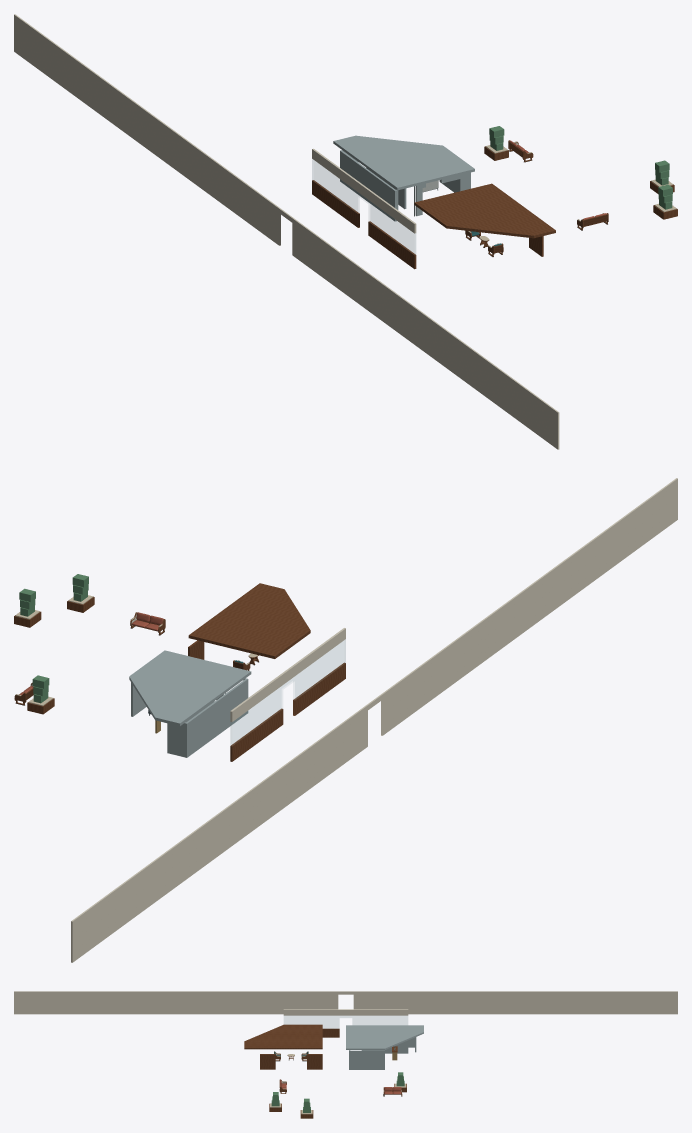
The model's file is D04_PORT_CENTRAL_COMMONS_PATCH_r003.glb.
3 renders of one model, top to bottom at view 1: azimuth 30°, elevation 25°; view 2: azimuth 150°, elevation 25°; view 3: azimuth 270°, elevation 25°, orthographic. The views are drawn at different scales.
Visible parts, largest first — view 1: PCW_EastEnclosure4, PCC_QuietLowCanopy, PCC_ServiceLowCanopy, PCC_PerimeterGlass_11_0, PCC_PerimeterDado_11_0, PCC_ServiceWest, PCC_PerimeterHead_11_0; view 2: PCW_EastEnclosure4, PCC_QuietLowCanopy, PCC_ServiceLowCanopy, PCC_PerimeterGlass_11_0, PCC_ServiceWest, PCC_PerimeterDado_11_0, PCC_PerimeterHead_11_0; view 3: PCW_EastEnclosure4, PCC_QuietLowCanopy, PCC_ServiceLowCanopy, PCC_PerimeterGlass_11_0, PCC_PerimeterHead_11_0, PCC_ServiceEast, PCC_QuietScreen, PCC_QuietScreenBack.
Boxes of the visible parts, <box> form: PCW_EastEnclosure4: <box>14,14,559,449</box>; PCC_QuietLowCanopy: <box>414,183,555,238</box>; PCC_ServiceLowCanopy: <box>333,135,474,190</box>; PCC_PerimeterGlass_11_0: <box>312,159,415,254</box>; PCC_PerimeterDado_11_0: <box>312,180,416,269</box>; PCC_ServiceWest: <box>340,150,396,221</box>; PCC_PerimeterHead_11_0: <box>312,148,416,233</box>; PCW_EastEnclosure4: <box>71,478,677,962</box>; PCC_QuietLowCanopy: <box>188,583,310,658</box>; PCC_ServiceLowCanopy: <box>129,650,251,726</box>; PCC_PerimeterGlass_11_0: <box>230,639,345,745</box>; PCC_ServiceWest: <box>185,678,248,757</box>; PCC_PerimeterDado_11_0: <box>230,662,345,761</box>; PCC_PerimeterHead_11_0: <box>230,628,345,721</box>; PCW_EastEnclosure4: <box>14,991,677,1014</box>; PCC_QuietLowCanopy: <box>244,1024,322,1049</box>; PCC_ServiceLowCanopy: <box>346,1025,423,1049</box>; PCC_PerimeterGlass_11_0: <box>284,1016,407,1028</box>; PCC_PerimeterHead_11_0: <box>283,1009,408,1015</box>; PCC_ServiceEast: <box>349,1050,384,1069</box>; PCC_QuietScreen: <box>307,1054,322,1069</box>; PCC_QuietScreenBack: <box>260,1054,275,1069</box>.
Bounding box in the file's own units: 31.71 × 3.9 × 85.
Materials: 54 (50 with a texture image).
